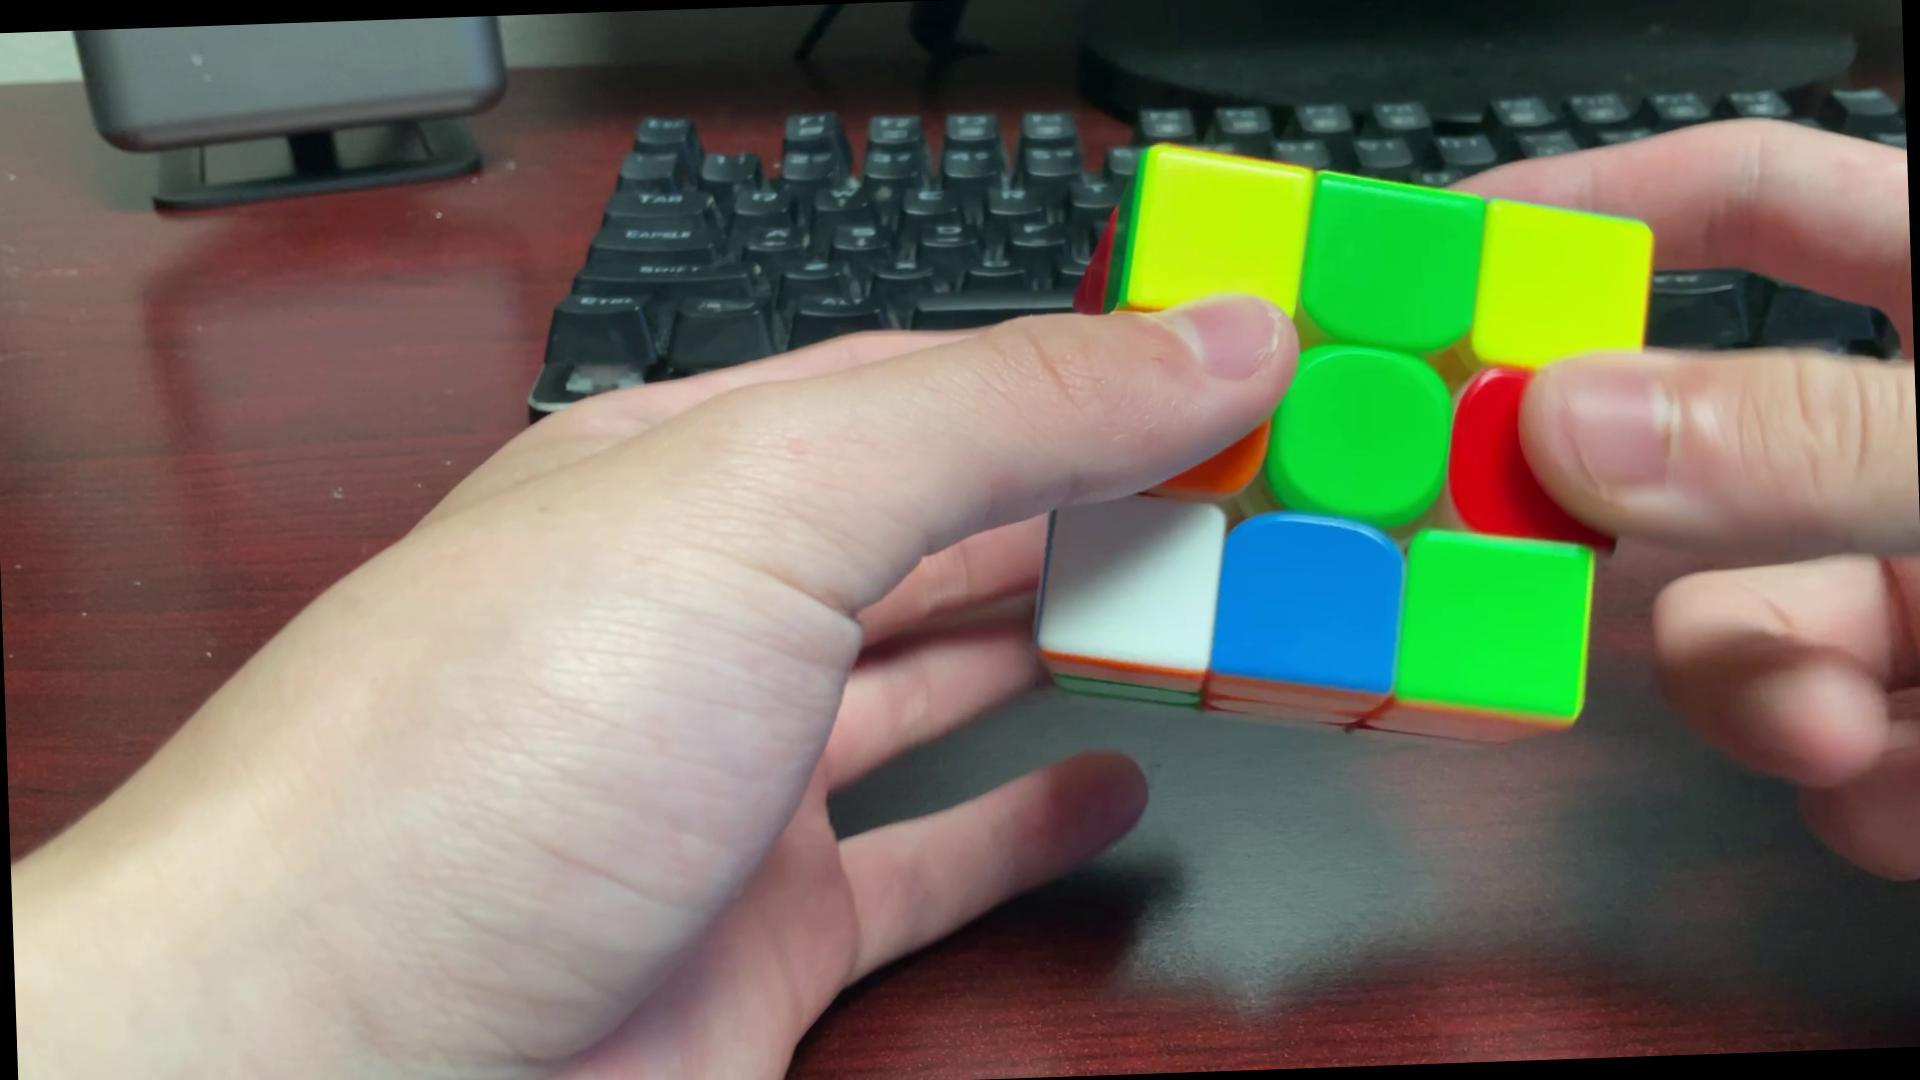Rubiks-Cube: (1014, 102, 1686, 766)
